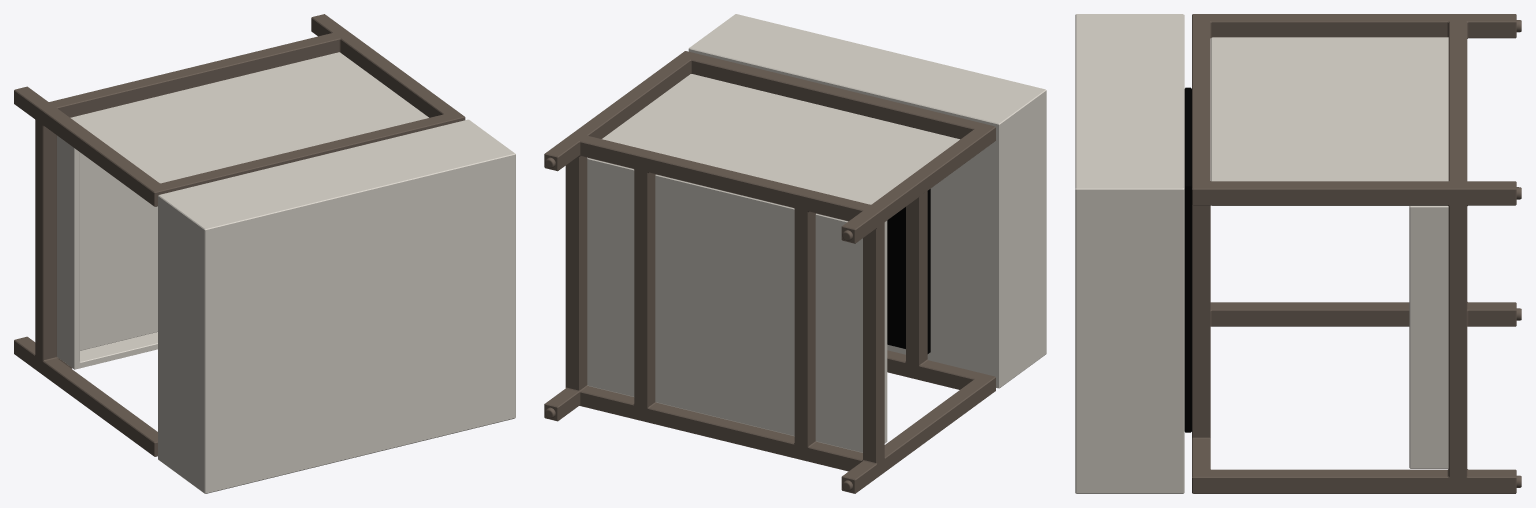
The model's file is Samuelson_8479_Nightstand.obj.
3 renders of one model, left to right at view 1: azimuth 30°, elevation 25°; view 2: azimuth 150°, elevation 25°; view 3: azimuth 270°, elevation 25°, orthographic. The views are drawn at different scales.
Visible parts, largest first — view 1: Samuelson_8479_Nightstand; view 2: Samuelson_8479_Nightstand; view 3: Samuelson_8479_Nightstand.
Part boxes in pixels (x1=…): Samuelson_8479_Nightstand: x1=14, y1=14, x2=515, y2=493; Samuelson_8479_Nightstand: x1=544, y1=14, x2=1046, y2=493; Samuelson_8479_Nightstand: x1=1075, y1=14, x2=1521, y2=493.
Bounding box in the file's own units: 66.04 × 55.88 × 71.12.
